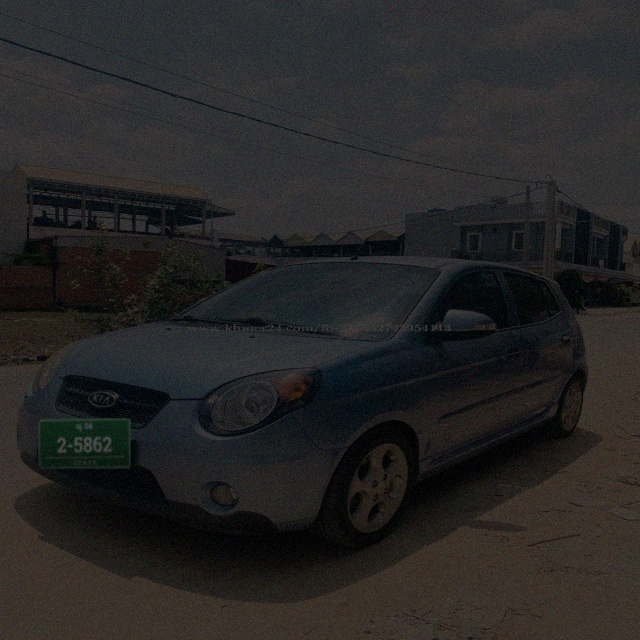Plate Number: (38, 418, 131, 469)
